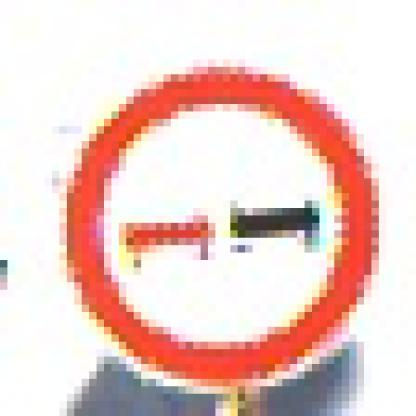No Overtaking: (45, 45, 380, 380)
